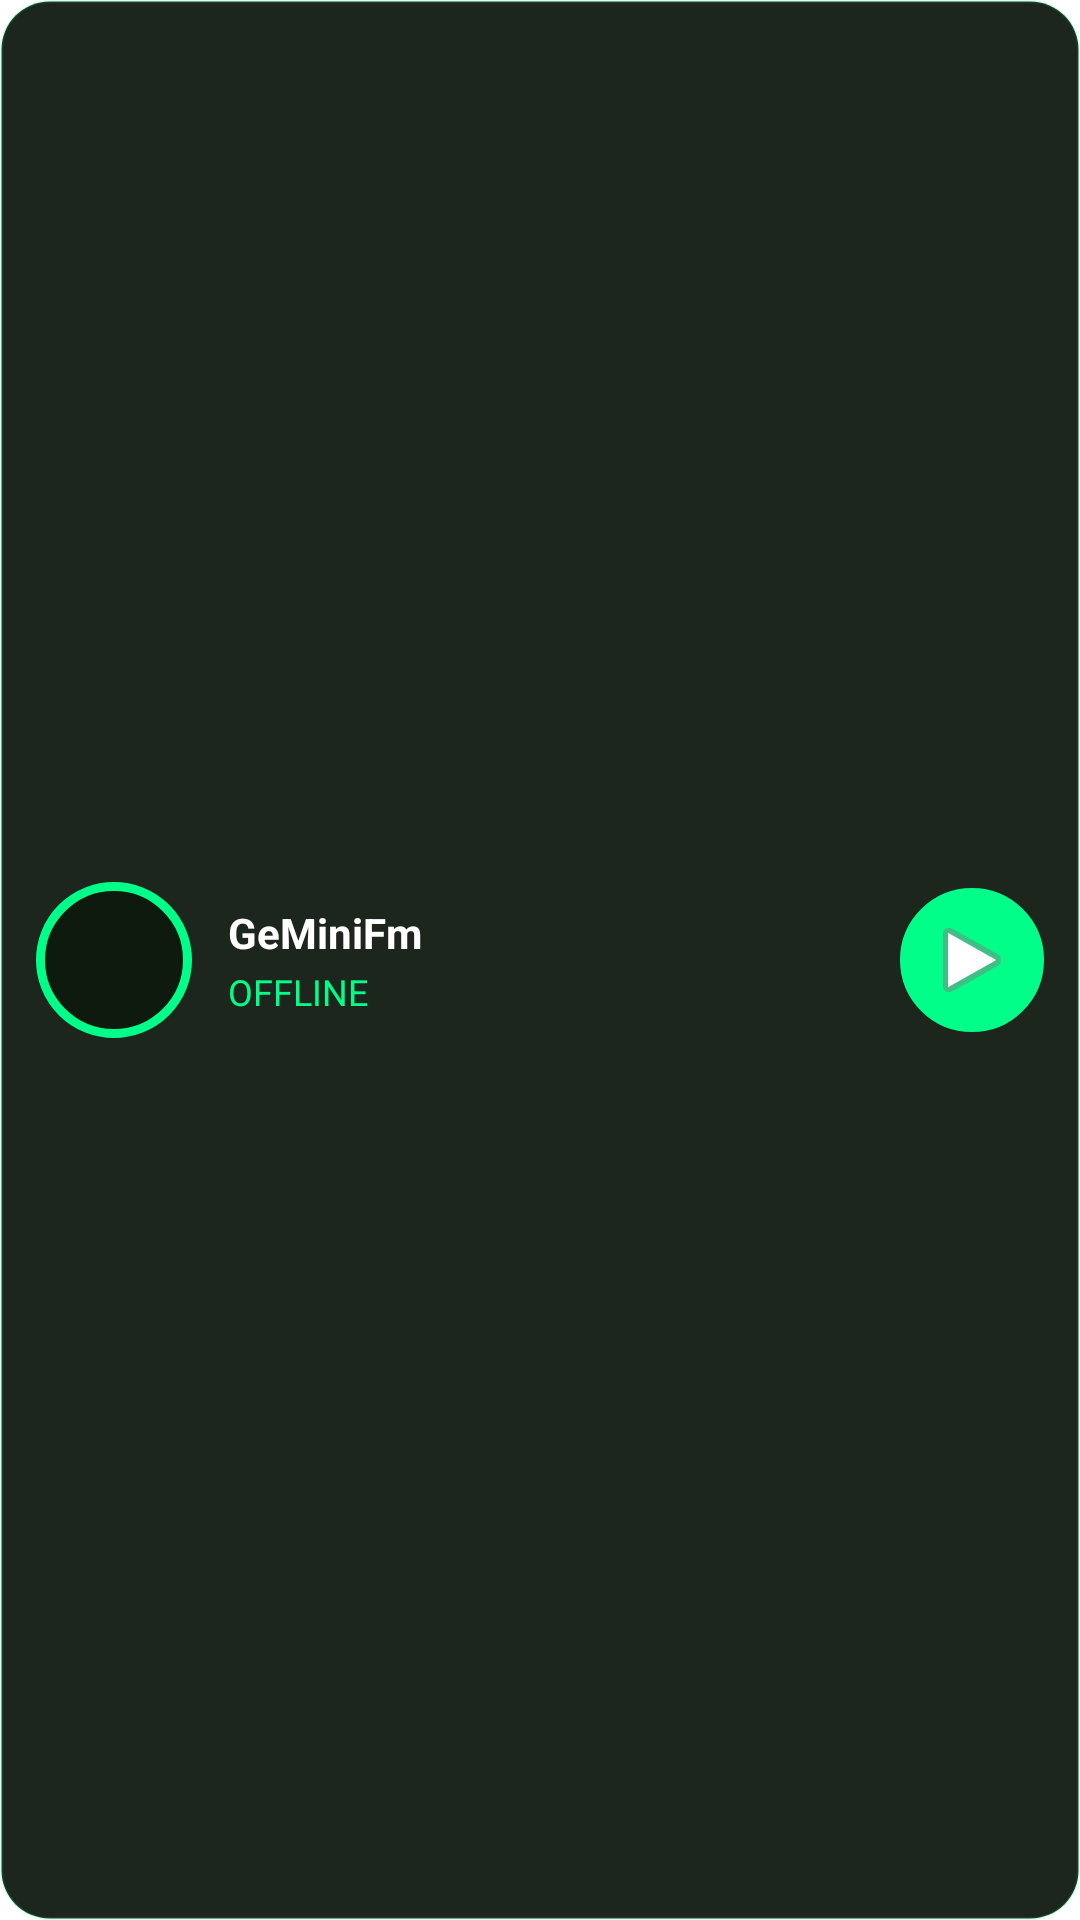

Point at icon controls on the screen. Image size 1080px×1920px, points as point (x, y).
play: point (972, 960)
